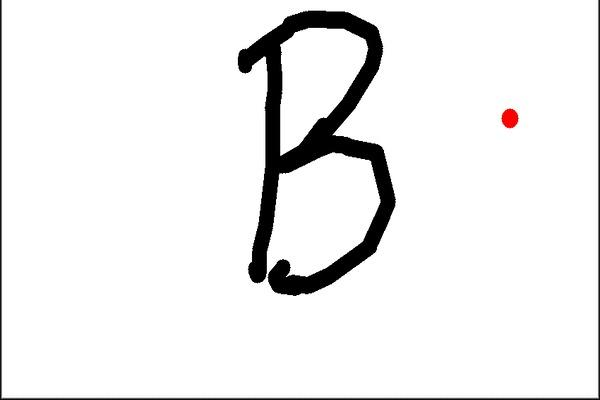B: (226, 3, 407, 304)
